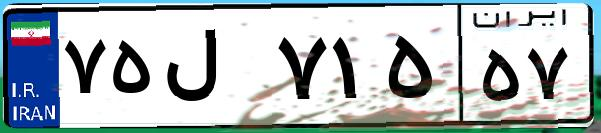1: (330, 28, 385, 110)
5: (385, 28, 445, 110), (475, 38, 525, 113), (110, 28, 158, 98)
7: (270, 28, 330, 110), (57, 26, 110, 100), (525, 38, 570, 115)
ل: (158, 20, 270, 120)
